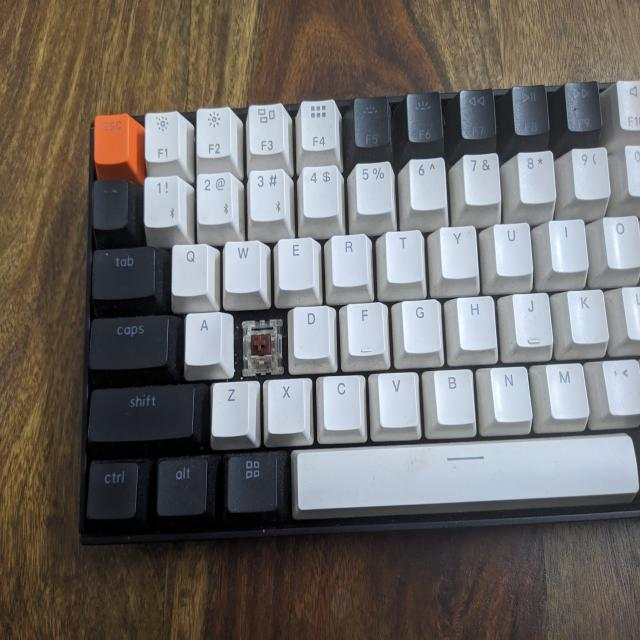key-switch: (238, 315, 284, 373)
